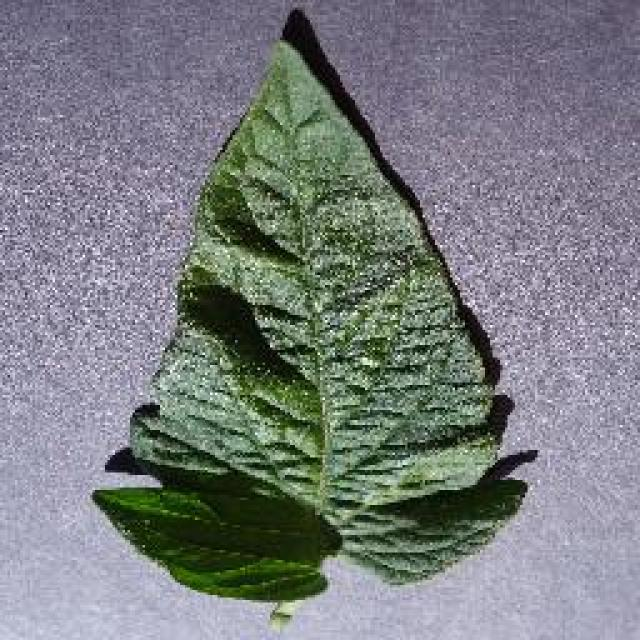healthy: (90, 39, 529, 599)
